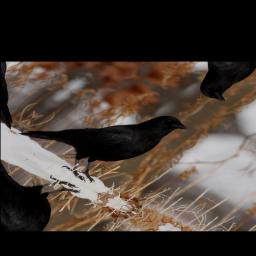Crow: (7, 73, 196, 194)
